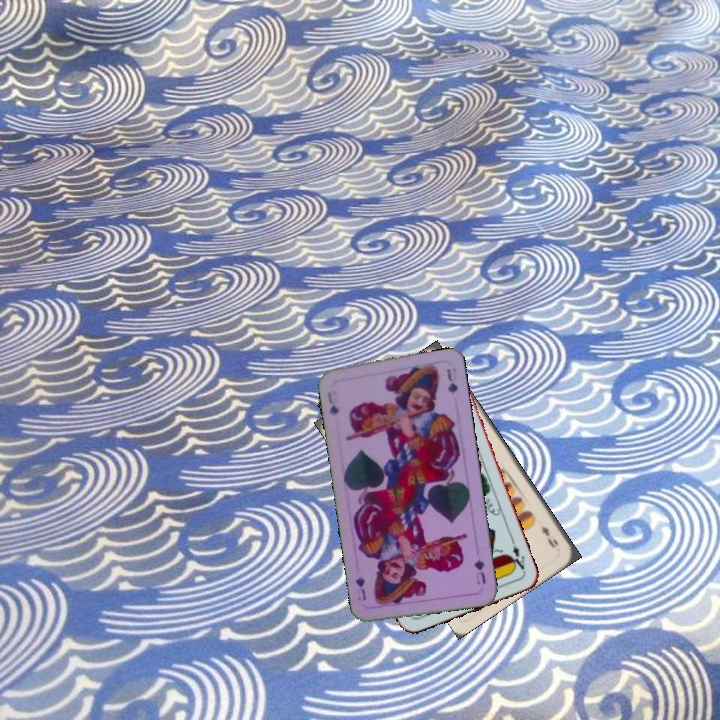E9: (537, 521, 561, 550)
EA: (505, 537, 528, 576)
GU: (470, 555, 488, 587), (324, 388, 341, 419)
